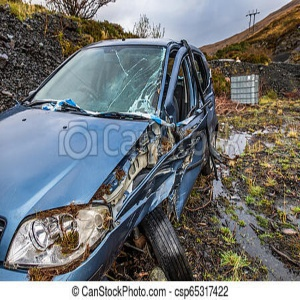front_windshield_glass: (65, 53, 156, 107)
